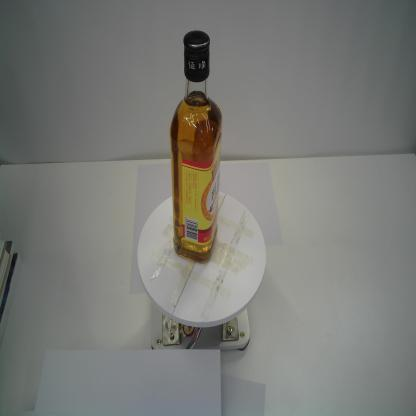Seasoner: (168, 26, 225, 263)
